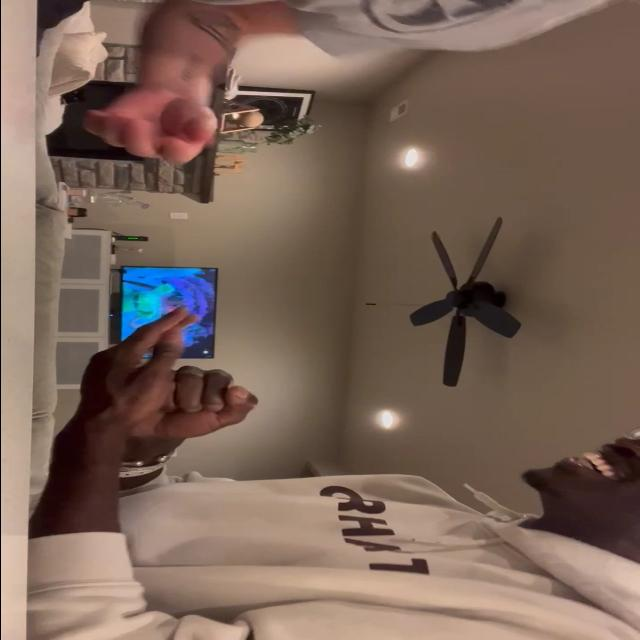Rock: (120, 367, 258, 437)
